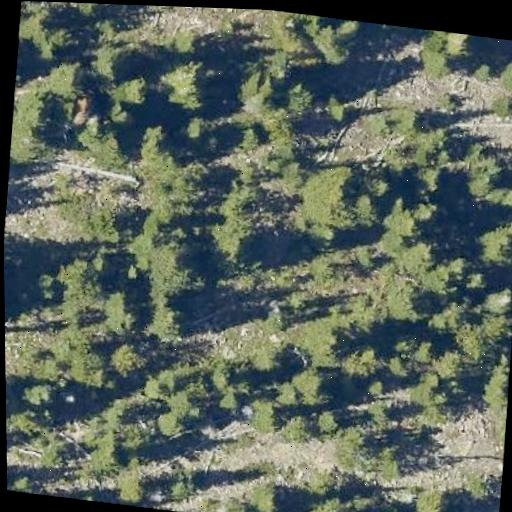tree-top: (25, 252, 144, 350), (123, 217, 210, 304), (289, 156, 359, 241), (8, 69, 57, 171), (155, 51, 219, 122), (328, 110, 397, 164), (282, 307, 339, 366), (24, 1, 76, 57), (453, 150, 507, 202), (466, 212, 512, 271), (152, 169, 199, 226), (219, 165, 266, 219), (208, 217, 258, 267), (279, 73, 323, 123), (67, 339, 110, 390), (47, 55, 95, 100), (398, 234, 442, 283), (425, 296, 470, 341), (390, 283, 437, 326), (91, 427, 132, 475), (107, 66, 153, 108), (104, 335, 147, 379), (380, 211, 424, 254), (89, 122, 130, 168), (294, 360, 333, 408), (83, 39, 129, 79), (352, 296, 389, 345), (238, 66, 278, 111), (453, 322, 492, 365), (416, 28, 453, 72), (315, 21, 350, 65), (144, 117, 178, 162), (431, 348, 471, 386), (391, 101, 431, 139), (308, 402, 345, 443), (143, 302, 184, 339), (346, 347, 389, 382), (249, 397, 287, 436), (253, 477, 294, 512), (282, 492, 350, 512), (460, 266, 496, 303), (172, 384, 207, 422), (19, 378, 57, 412), (29, 349, 67, 383), (125, 462, 157, 500), (171, 26, 210, 57), (180, 109, 212, 145), (413, 486, 456, 512), (249, 346, 283, 376), (153, 407, 184, 439), (428, 261, 458, 293), (282, 32, 312, 61), (415, 196, 446, 224), (445, 32, 474, 61), (483, 308, 511, 338), (488, 365, 510, 402), (237, 121, 264, 148), (338, 19, 366, 43), (496, 179, 512, 217), (503, 54, 512, 81)
